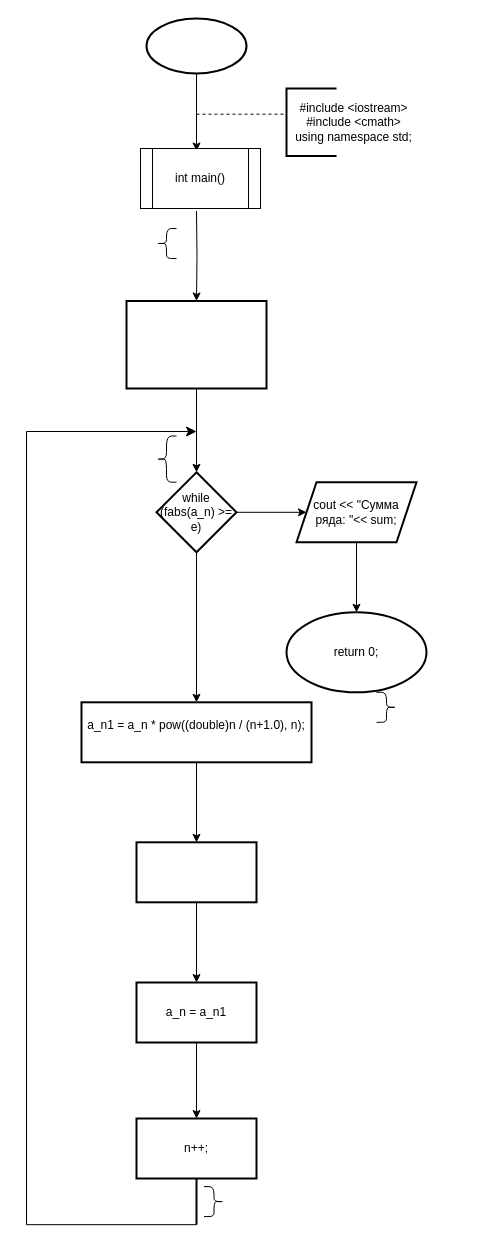
Image size: 479x1252. Some labels were removed from this diagram. Each missing label, with the centre of its shape:
"double e = 0.0001; int n = 1; double a_n = 1 / 3; double sum = a_n;" belongs at (196,344).
"sum += a_n1;" belongs at (196,872).
"начало" belongs at (196,45).
